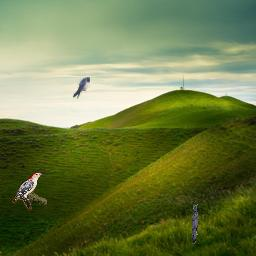Crow: (192, 204, 198, 244)
Swallow: (73, 77, 90, 99)
Woodpecker: (12, 171, 47, 211)
